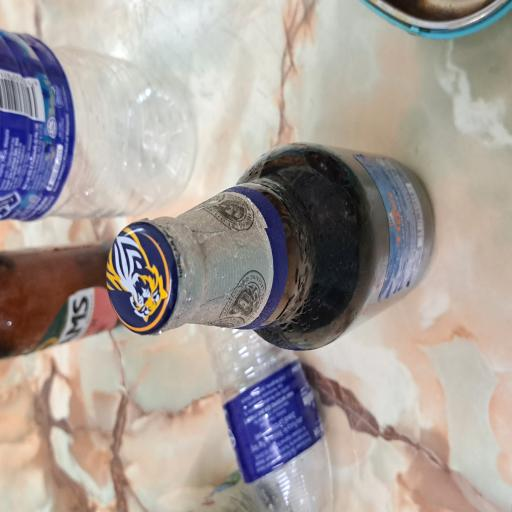glass bottle: (120, 142, 280, 512), (112, 0, 199, 168)
plastic bottle: (218, 0, 361, 260), (0, 272, 152, 447)
